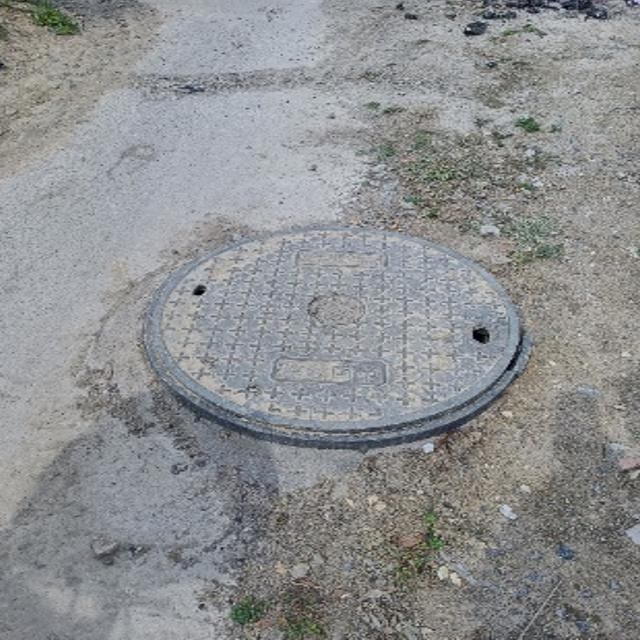good: (144, 225, 532, 447)
